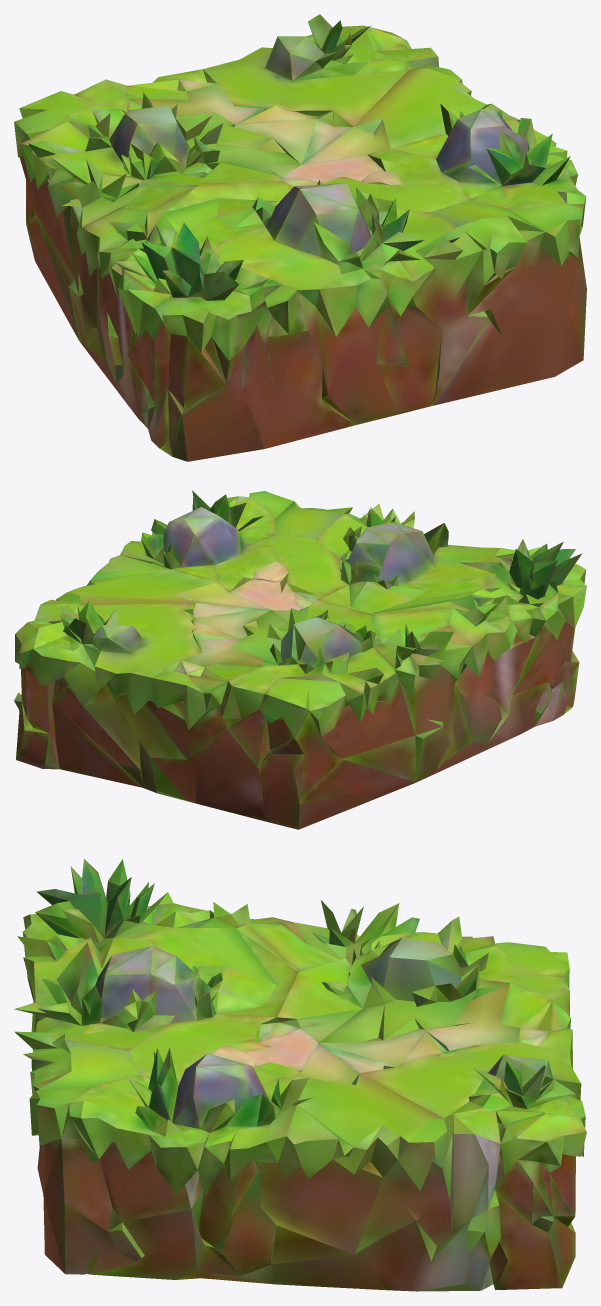
Rendered from grass-tile.glb.
3 views of the same model, one above another, from view 1: azimuth 30°, elevation 25°; view 2: azimuth 150°, elevation 25°; view 3: azimuth 270°, elevation 25° (orthographic). The views are drawn at different scales.
Visible parts, largest first — view 1: output_unwrapped; view 2: output_unwrapped; view 3: output_unwrapped.
Part boxes in pixels (x1,y1,x2,y2): output_unwrapped: [14, 14, 586, 461]; output_unwrapped: [14, 490, 586, 829]; output_unwrapped: [14, 859, 586, 1291].
Bounding box in the file's own units: 1.9 × 0.7688 × 1.88.
1 material, 1 textured.
